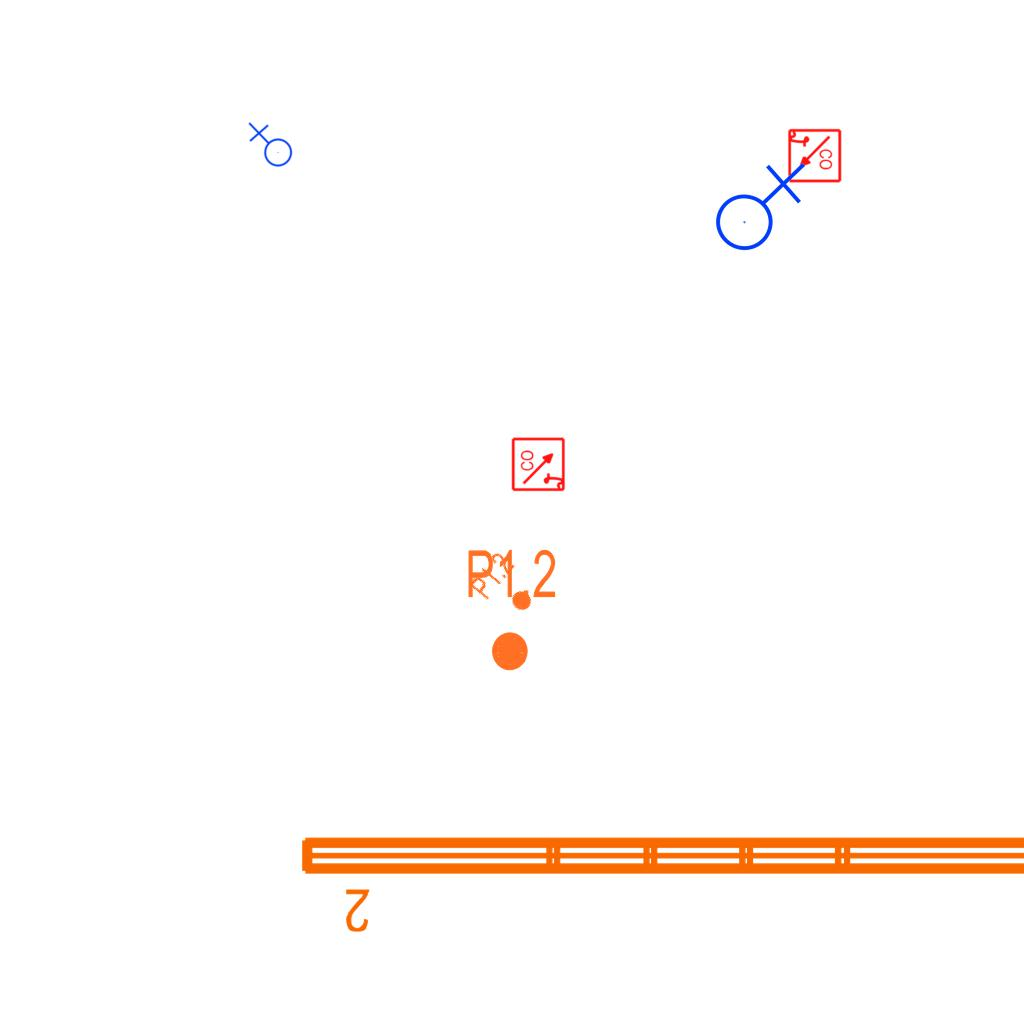Ambulanz_Pendelleuchte_LED: (293, 825, 1024, 937)
Downlight_LED_Einbauleuchten_Flur: (465, 546, 558, 674), (466, 548, 546, 626)
Elektroanschluss_allgemein_230V_Geraeteanschlussdose_230V: (707, 158, 806, 252), (246, 122, 293, 171)
ROA_Rauchmelder_optisch_mit_Signalgeber_(Sockelsirene): (786, 128, 842, 184), (511, 436, 567, 492)
